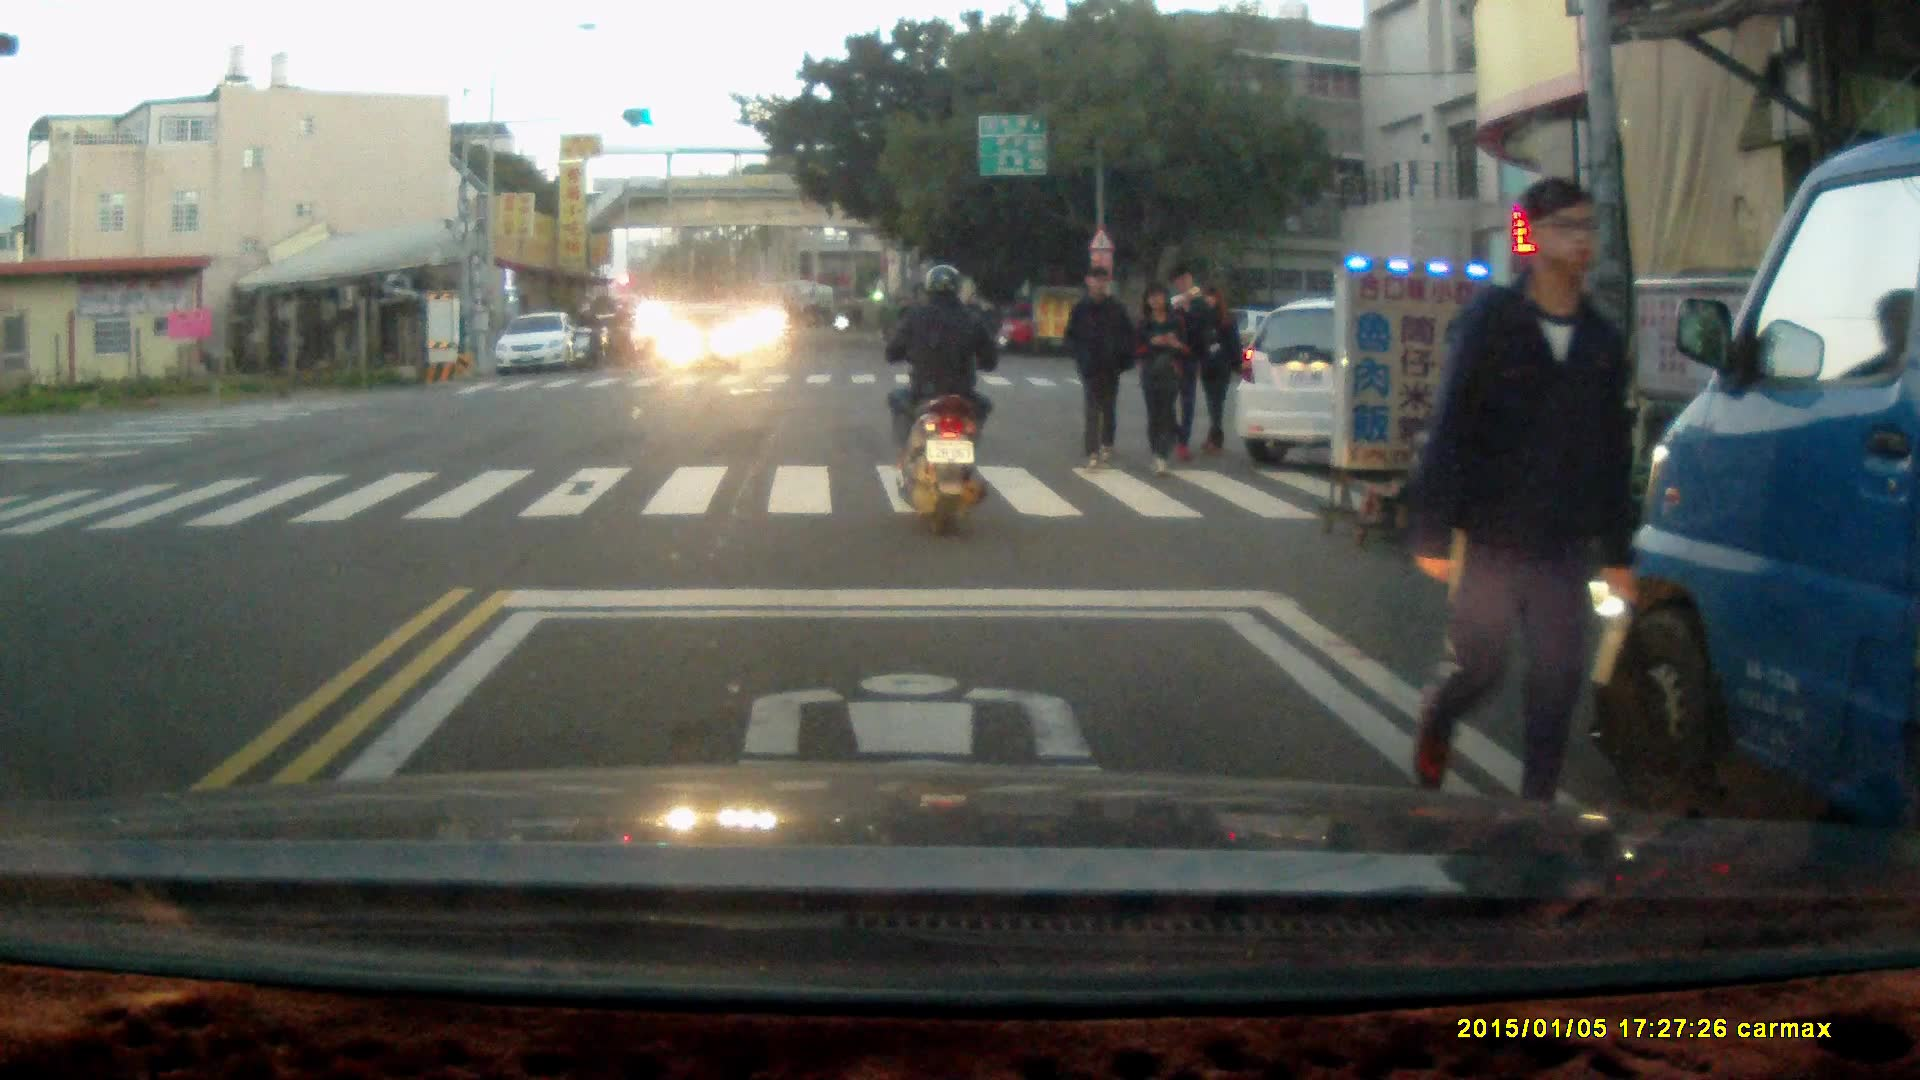pedestrian: (1402, 170, 1642, 840), (1062, 263, 1130, 473), (1130, 280, 1191, 481), (1161, 265, 1206, 468), (1191, 284, 1242, 461)
rider: (882, 262, 1008, 540), (570, 298, 602, 373), (602, 295, 636, 370)
vehicle: (1593, 128, 1920, 890), (1235, 303, 1556, 468), (650, 303, 745, 375), (493, 311, 584, 378)
